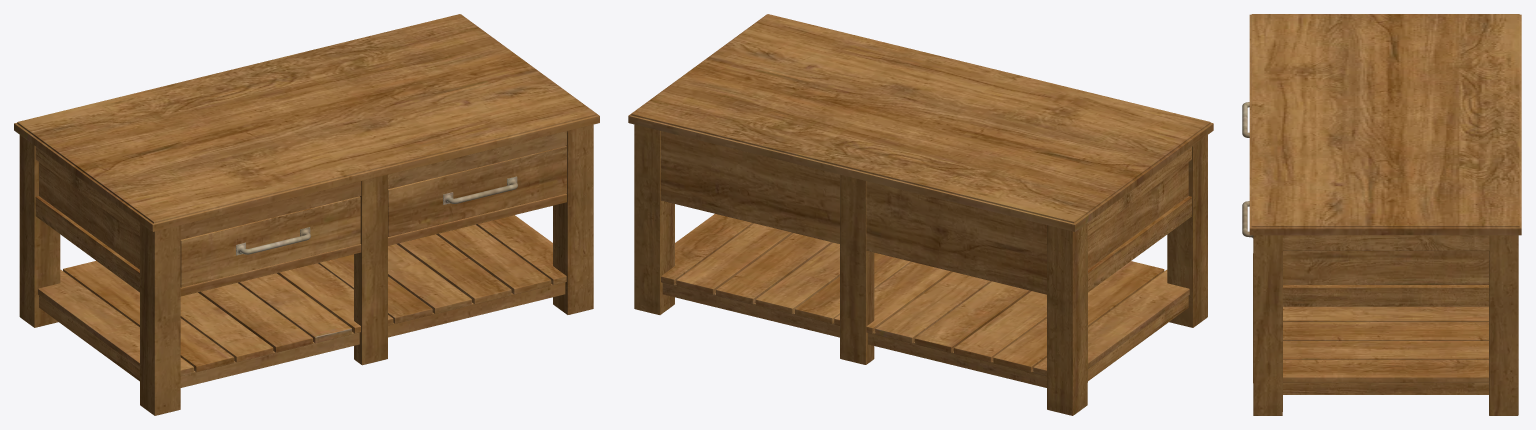
The model's file is abo-B074KLN3HW.glb.
The picture shows the model from 3 angles, left to right: view 1: azimuth 30°, elevation 25°; view 2: azimuth 150°, elevation 25°; view 3: azimuth 270°, elevation 25°; orthographic projection. The views are drawn at different scales.
Size of the model in its own units: 1.15 by 0.48 by 0.635.
1 material, 1 textured.
